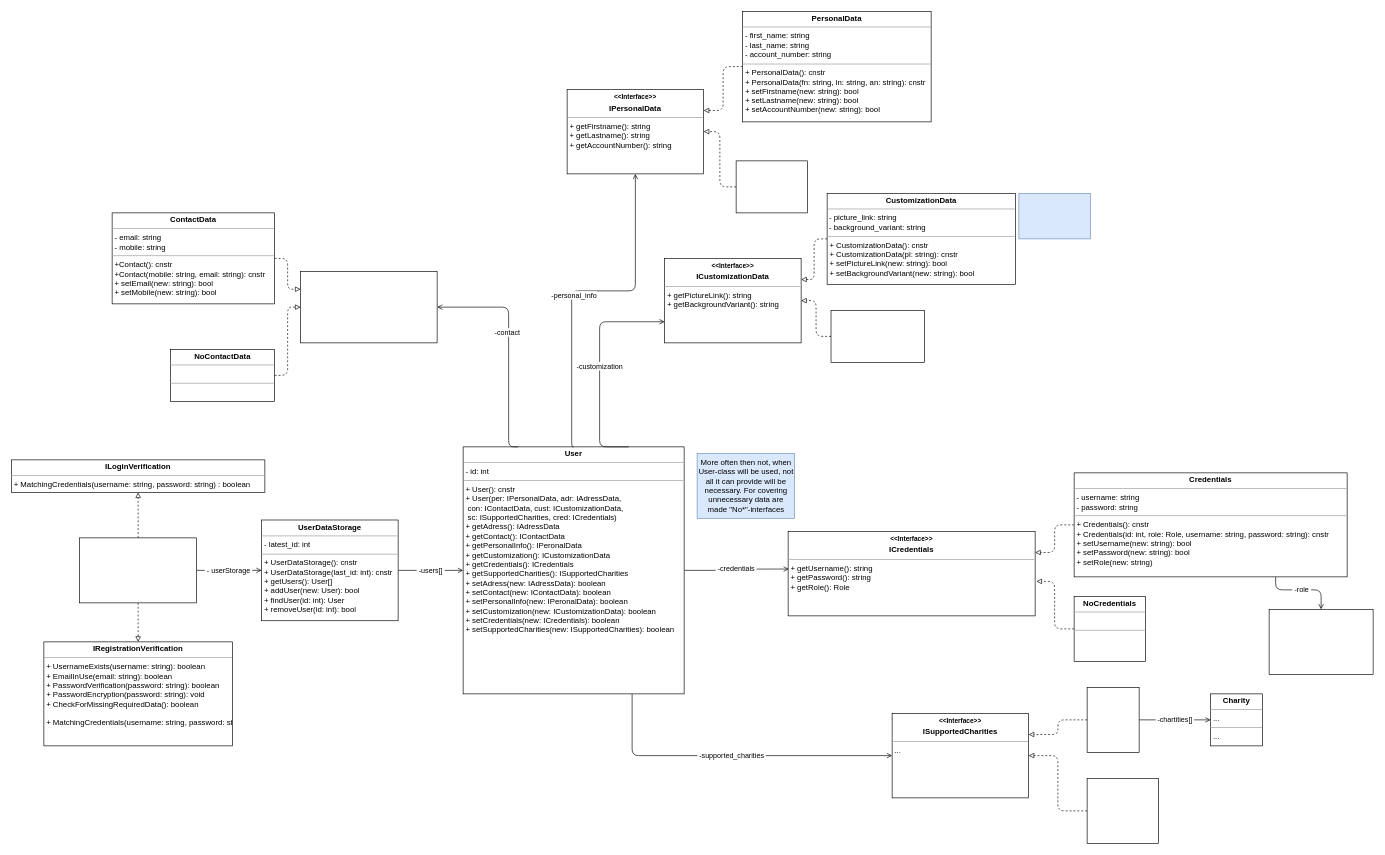
Image size: 1385x855. Some labels were removed from this diagram. The shapes that lost their labels are listed below. From the top down, each one's box as (x1, y1, x2, y2) in pixels, then its label:
(735, 160, 808, 213): NoPersonalData
(1018, 193, 1090, 239): For picture_link, it should be a link that fetches for profile picture
(300, 271, 437, 343): <<Interface>> IContactData + getEmail(): string + getMobile(): string
(830, 310, 925, 362): NoCustomizationData
(79, 537, 197, 603): UserController ... ...
(1268, 609, 1373, 674): Role <<enum>> ADMIN USER UNDEFINED
(1086, 687, 1139, 752): CharityList - user_id: int ... ...
(1086, 778, 1159, 843): NoCharities
